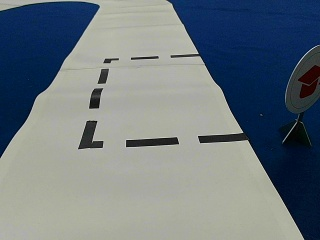school: (285, 46, 318, 111)
